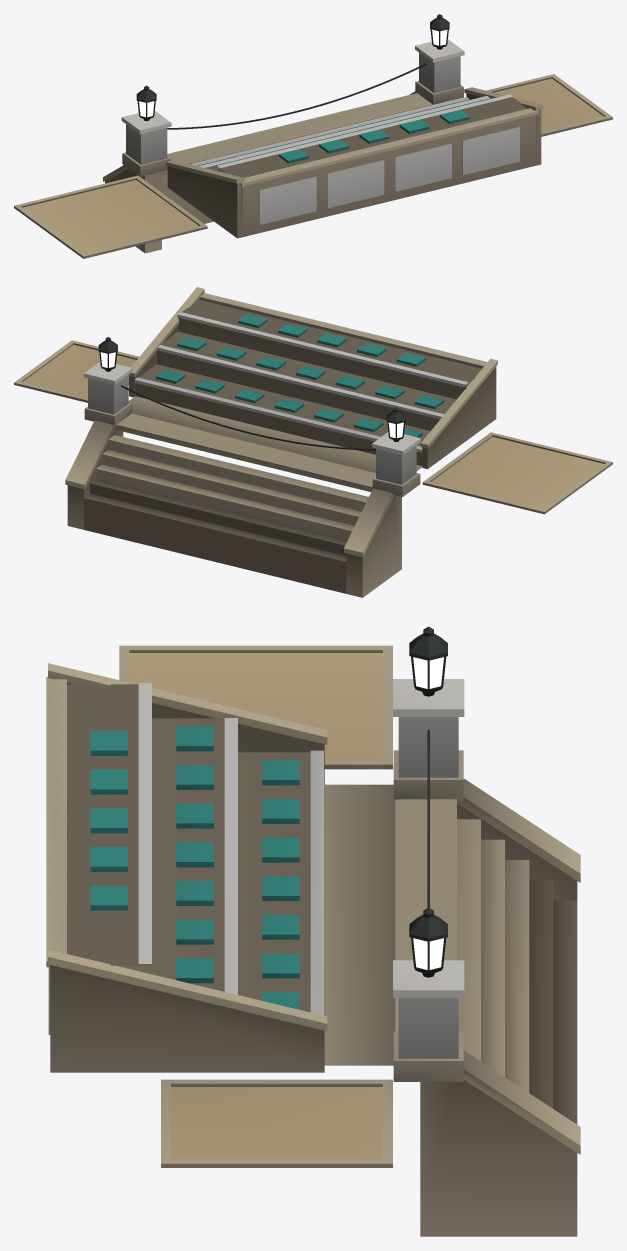
The model's file is pav_regatta_lookout.glb.
3 views of the same model, one above another, from view 1: azimuth 30°, elevation 25°; view 2: azimuth 150°, elevation 25°; view 3: azimuth 270°, elevation 25° (orthographic). The views are drawn at different scales.
Parts seen in each view (by area): view 1: static_regatta_lookout; view 2: static_regatta_lookout; view 3: static_regatta_lookout.
Part boxes in pixels (left/top/right/bottom): static_regatta_lookout: left=14, top=14, right=612, bottom=258; static_regatta_lookout: left=14, top=287, right=612, bottom=597; static_regatta_lookout: left=46, top=626, right=580, bottom=1236.
Size of the model in its own units: 14.74 by 4.32 by 6.43.
